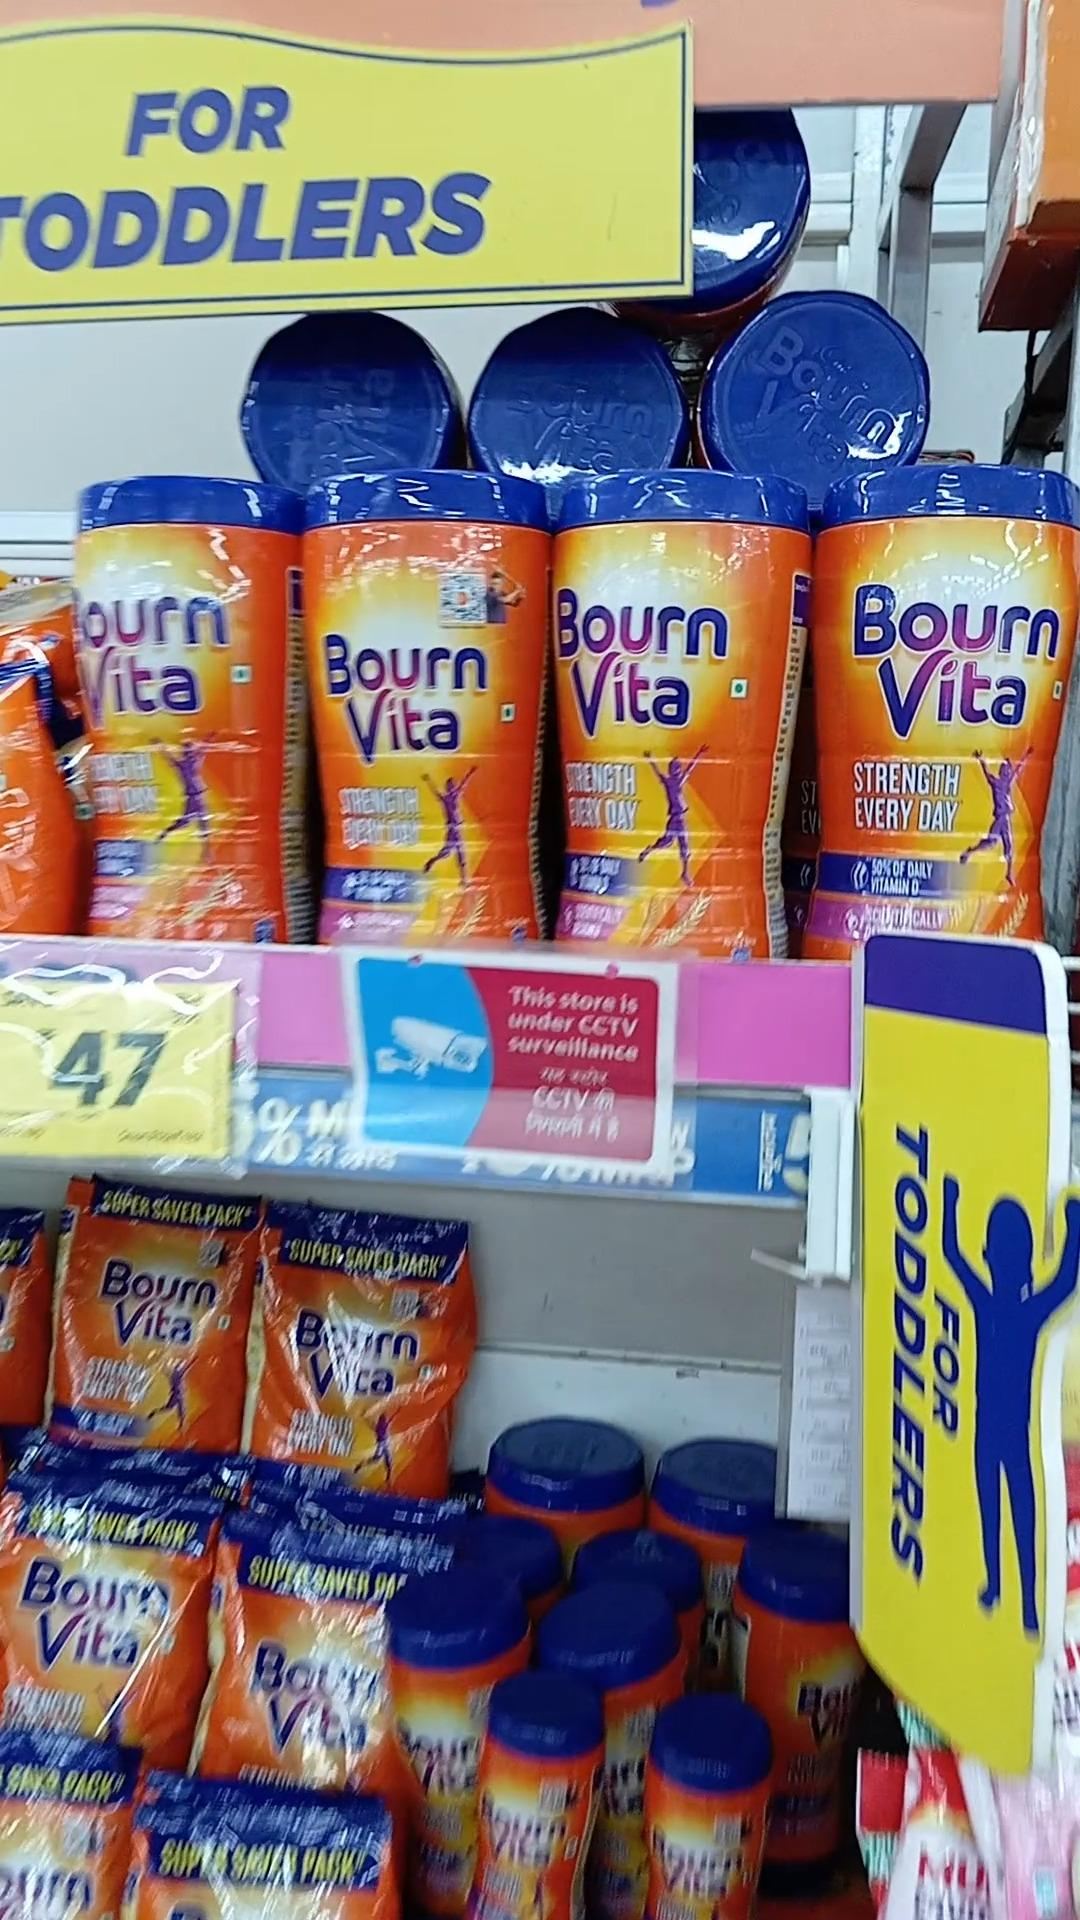BOURN_VITA_1_KG_JAR: (816, 465, 1080, 926), (555, 477, 795, 963), (71, 468, 297, 935), (315, 476, 522, 951)
BOURN_VITA_1_KG_POUCH: (257, 1207, 456, 1478), (55, 1180, 241, 1445), (212, 1530, 390, 1775), (7, 1495, 190, 1727)
BOURN_VITA_500_G_JAR: (469, 1681, 595, 1920), (640, 1705, 761, 1920)
